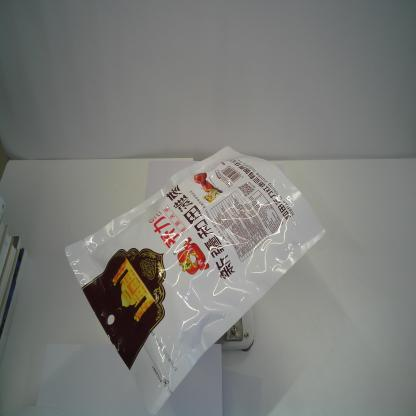Dried Food: (62, 142, 328, 416)
